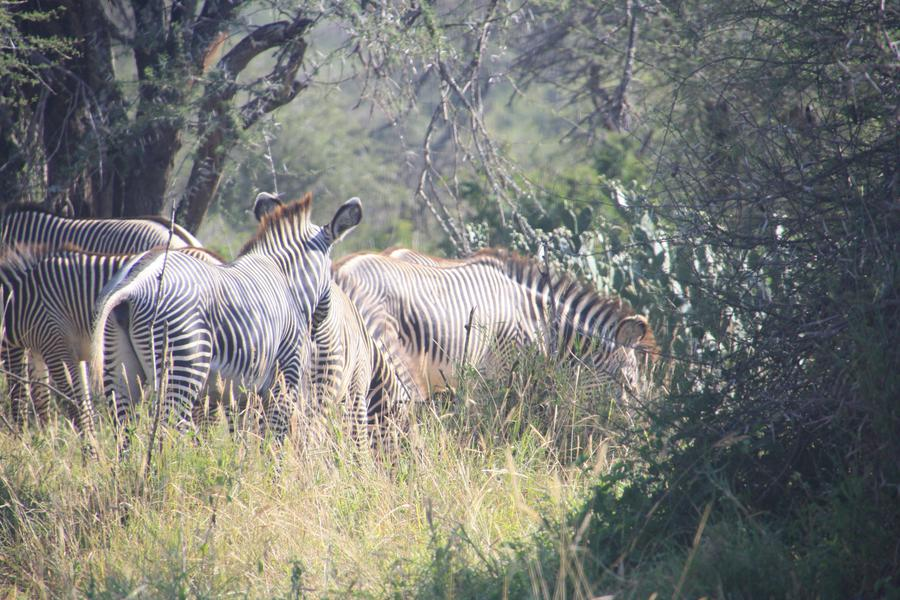zebra_grevys: (332, 246, 533, 364), (118, 251, 308, 366)
